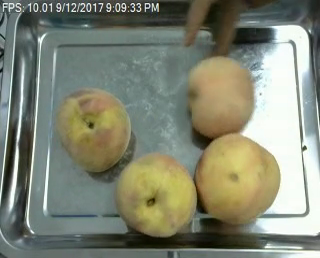Peach: (195, 132, 280, 226), (114, 152, 197, 238), (55, 87, 132, 173), (186, 54, 255, 138)
